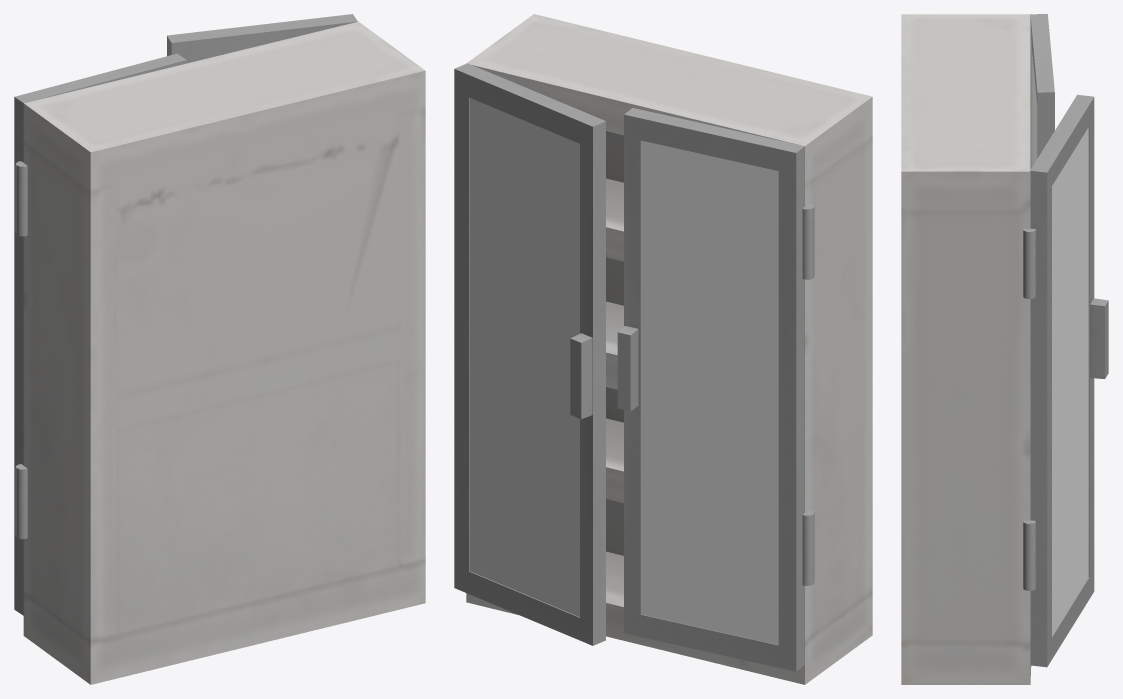
Rendered from Pfb_Indoors_Study_Shelf_JLAB04__3.fbx.
3 renders of one model, left to right at view 1: azimuth 30°, elevation 25°; view 2: azimuth 150°, elevation 25°; view 3: azimuth 270°, elevation 25°, orthographic. The views are drawn at different scales.
Visible parts, largest first — view 1: Mat_Indoors_Study_01_2_JLAB, MAT_Shop_Refridge_01_JLAB; view 2: Mat_Tile_Color_08 3, Mat_Indoors_Study_01_2_JLAB, MAT_Shop_Refridge_01_JLAB; view 3: Mat_Indoors_Study_01_2_JLAB, MAT_Shop_Refridge_01_JLAB, Mat_Tile_Color_08 3.
Boxes of the visible parts, x1=… form: Mat_Indoors_Study_01_2_JLAB: x1=23, y1=21, x2=425, y2=684; MAT_Shop_Refridge_01_JLAB: x1=14, y1=14, x2=357, y2=615; Mat_Tile_Color_08 3: x1=469, y1=98, x2=778, y2=644; Mat_Indoors_Study_01_2_JLAB: x1=466, y1=14, x2=872, y2=684; MAT_Shop_Refridge_01_JLAB: x1=454, y1=63, x2=814, y2=671; Mat_Indoors_Study_01_2_JLAB: x1=901, y1=14, x2=1032, y2=684; MAT_Shop_Refridge_01_JLAB: x1=1023, y1=14, x2=1108, y2=667; Mat_Tile_Color_08 3: x1=1032, y1=53, x2=1088, y2=635.
Bounding box in the file's own units: 1.84 × 2.69 × 0.9829.
Materials: 3 (3 with a texture image).
